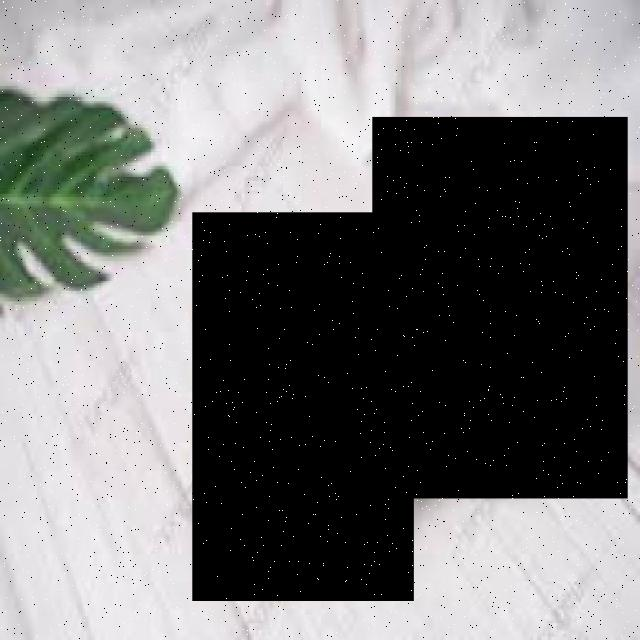Capsicum: (373, 116, 627, 499), (193, 212, 415, 600)
